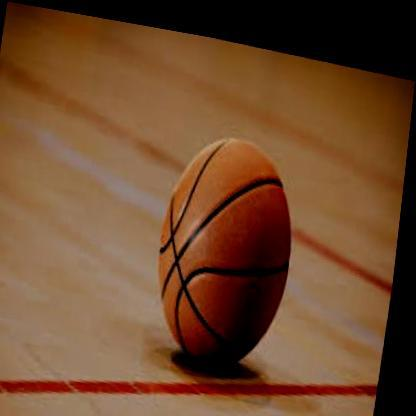basketball: (152, 116, 307, 370)
